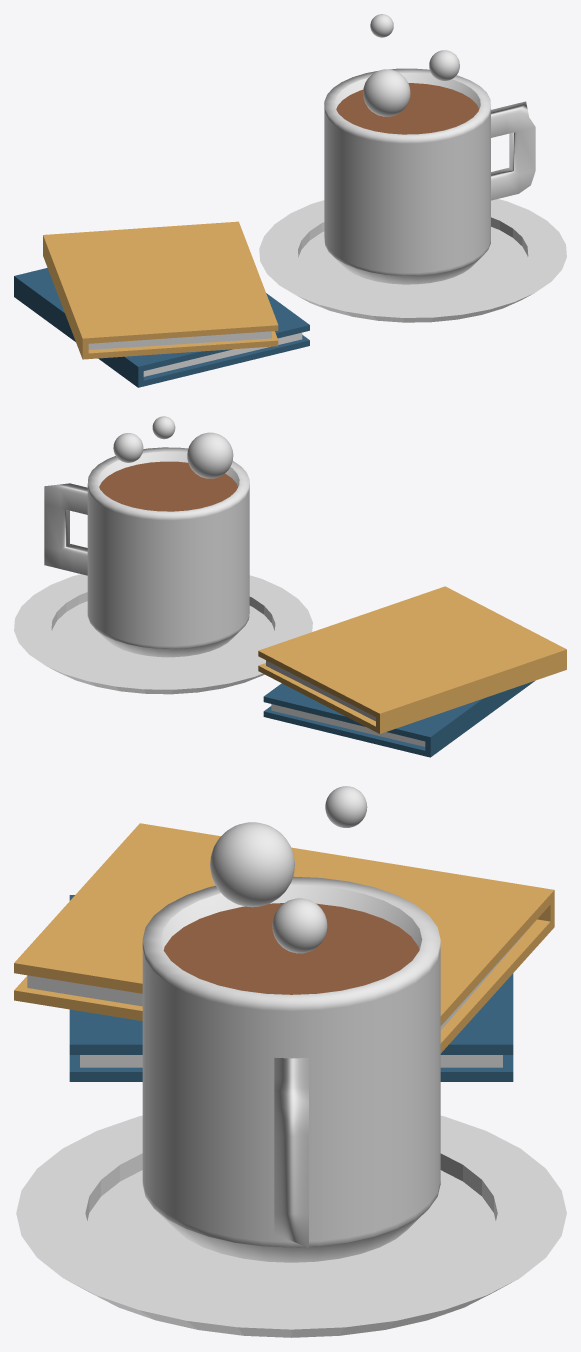
Rendered from coffee.glb.
The picture shows the model from 3 angles, top to bottom: view 1: azimuth 30°, elevation 25°; view 2: azimuth 150°, elevation 25°; view 3: azimuth 270°, elevation 25°; orthographic projection. The views are drawn at different scales.
Visible parts, largest first — view 1: 柱体, 立方体.002, 柱体.001, 立方体.001, 柱体.002, 立方体, 球体, 球体.001; view 2: 立方体.002, 柱体, 柱体.001, 立方体.001, 柱体.002, 立方体, 球体, 球体.001, 球体.002; view 3: 柱体, 柱体.001, 立方体.002, 柱体.002, 立方体.001, 立方体, 球体, 球体.001, 球体.002.
Boxes of the visible parts, <box> form: 柱体: <box>324,68,490,284</box>; 立方体.002: <box>43,221,278,359</box>; 柱体.001: <box>259,199,566,322</box>; 立方体.001: <box>14,268,309,387</box>; 柱体.002: <box>336,83,479,134</box>; 立方体: <box>491,101,535,200</box>; 球体: <box>363,69,410,116</box>; 球体.001: <box>429,50,459,80</box>; 立方体.002: <box>258,586,566,733</box>; 柱体: <box>87,447,249,657</box>; 柱体.001: <box>14,574,312,694</box>; 立方体.001: <box>263,681,534,757</box>; 柱体.002: <box>99,461,237,511</box>; 立方体: <box>44,483,87,575</box>; 球体: <box>187,432,233,478</box>; 球体.001: <box>113,433,143,462</box>; 球体.002: <box>152,416,175,439</box>; 柱体: <box>142,876,440,1262</box>; 柱体.001: <box>16,1115,566,1337</box>; 立方体.002: <box>14,823,554,1053</box>; 柱体.002: <box>163,903,419,994</box>; 立方体.001: <box>69,895,513,1081</box>; 立方体: <box>274,1057,308,1247</box>; 球体: <box>210,822,294,907</box>; 球体.001: <box>272,898,327,953</box>; 球体.002: <box>325,786,367,827</box>.
Size of what is drawn, in the model's own units: 7.01 by 3.2 by 3.71.
